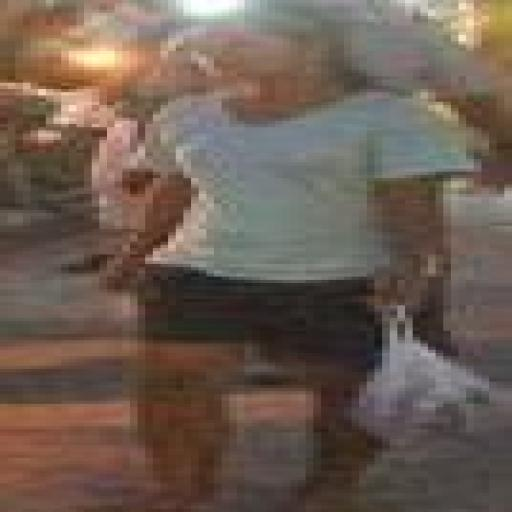person: (107, 10, 473, 511)
